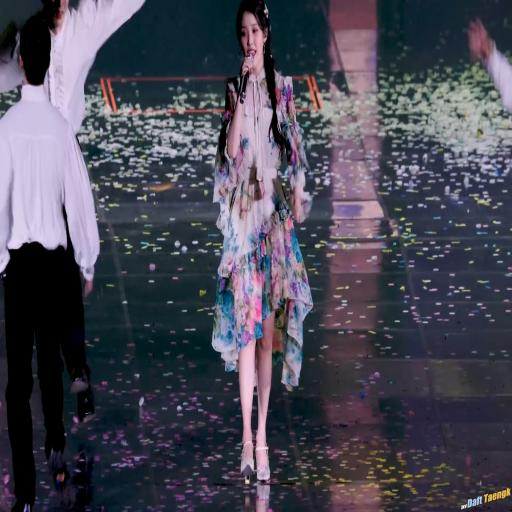IU: (235, 1, 271, 67)
